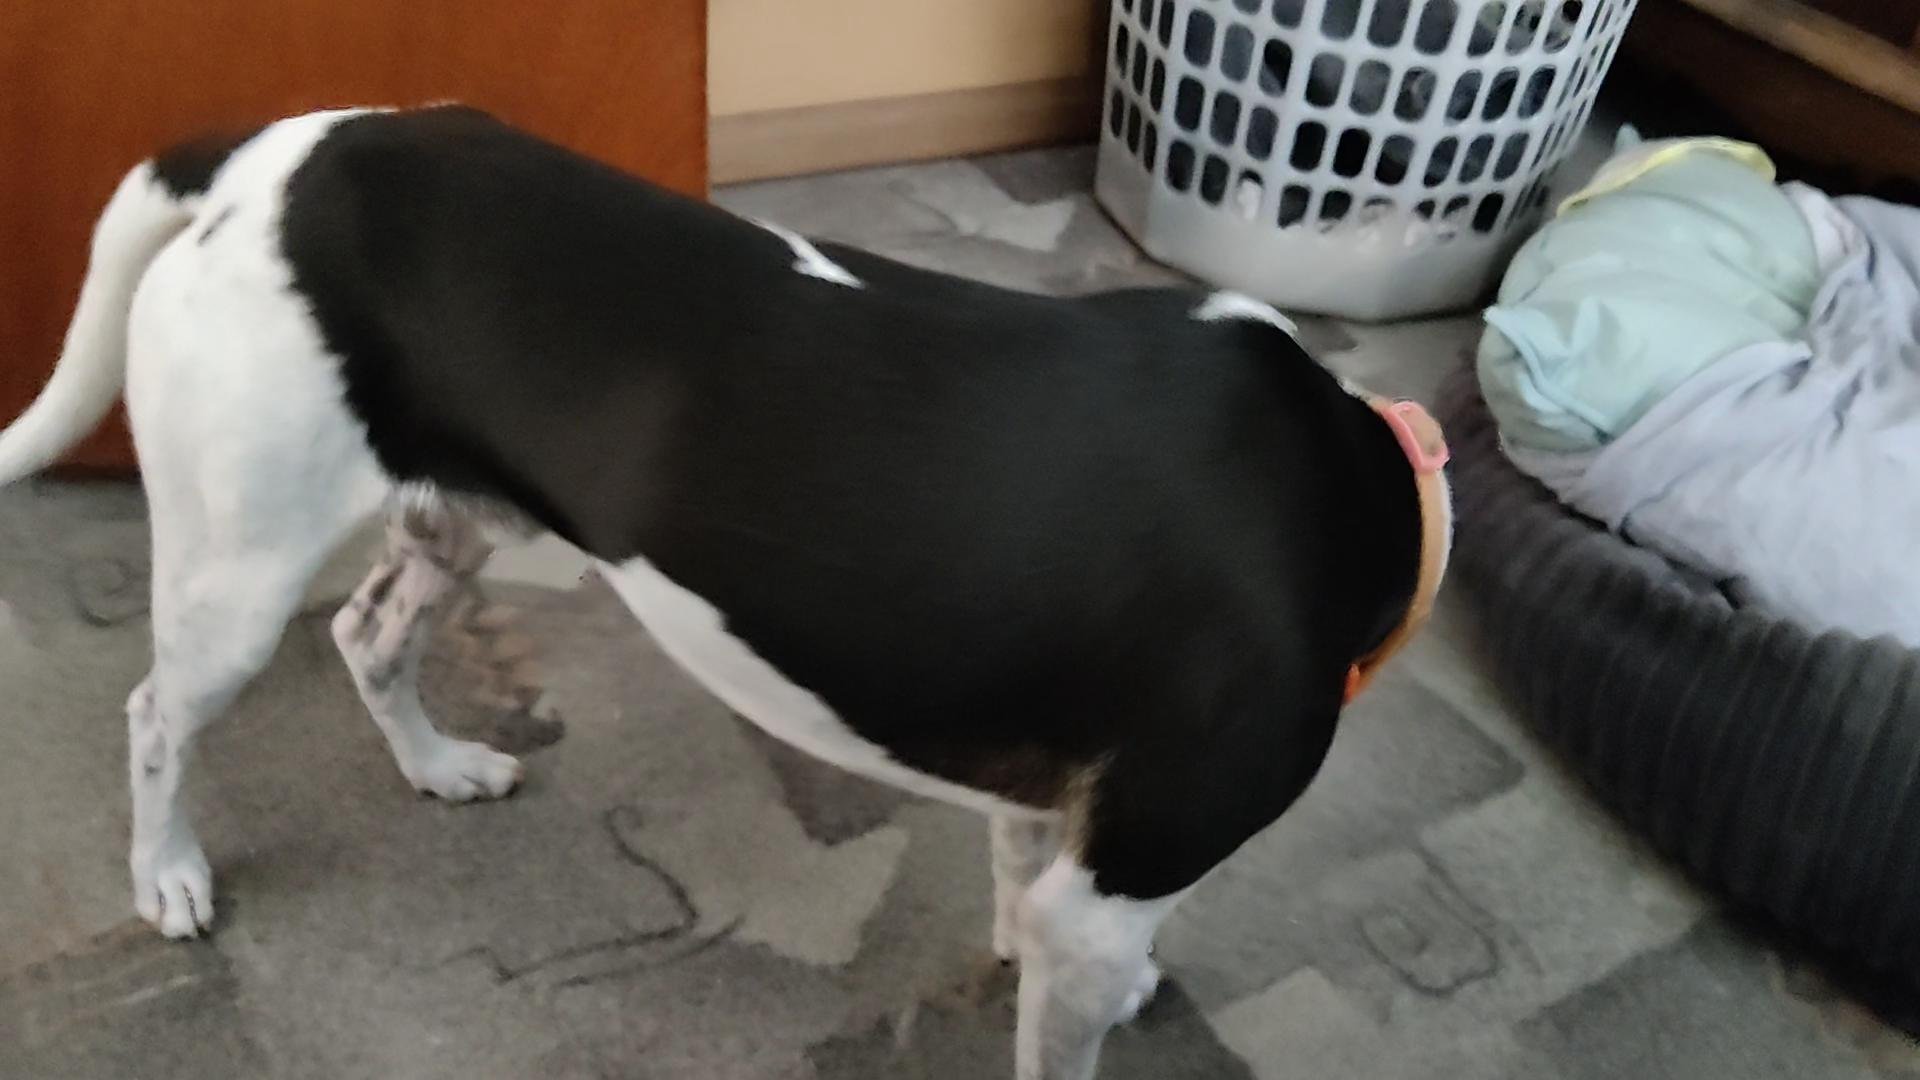Dog: (0, 94, 1457, 1079)
